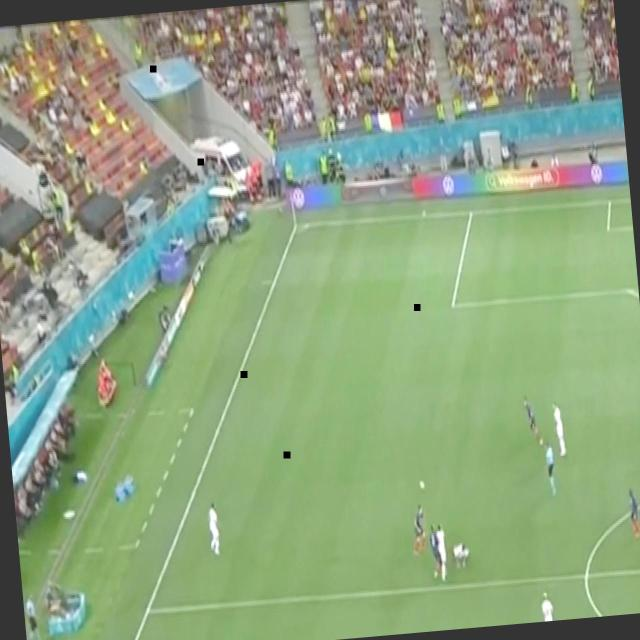ball: (418, 480, 426, 490)
player-white: (521, 392, 544, 448), (409, 504, 429, 556), (552, 399, 568, 459), (206, 498, 222, 557), (542, 440, 558, 497), (428, 524, 443, 578), (435, 523, 449, 580), (626, 488, 640, 538), (451, 541, 471, 570), (538, 588, 554, 622)
